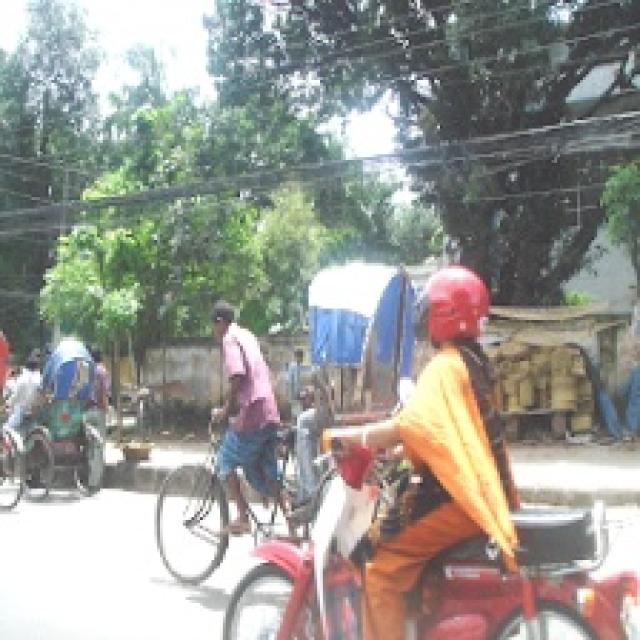bike: (213, 413, 629, 637)
rickshaw: (144, 255, 426, 549)
